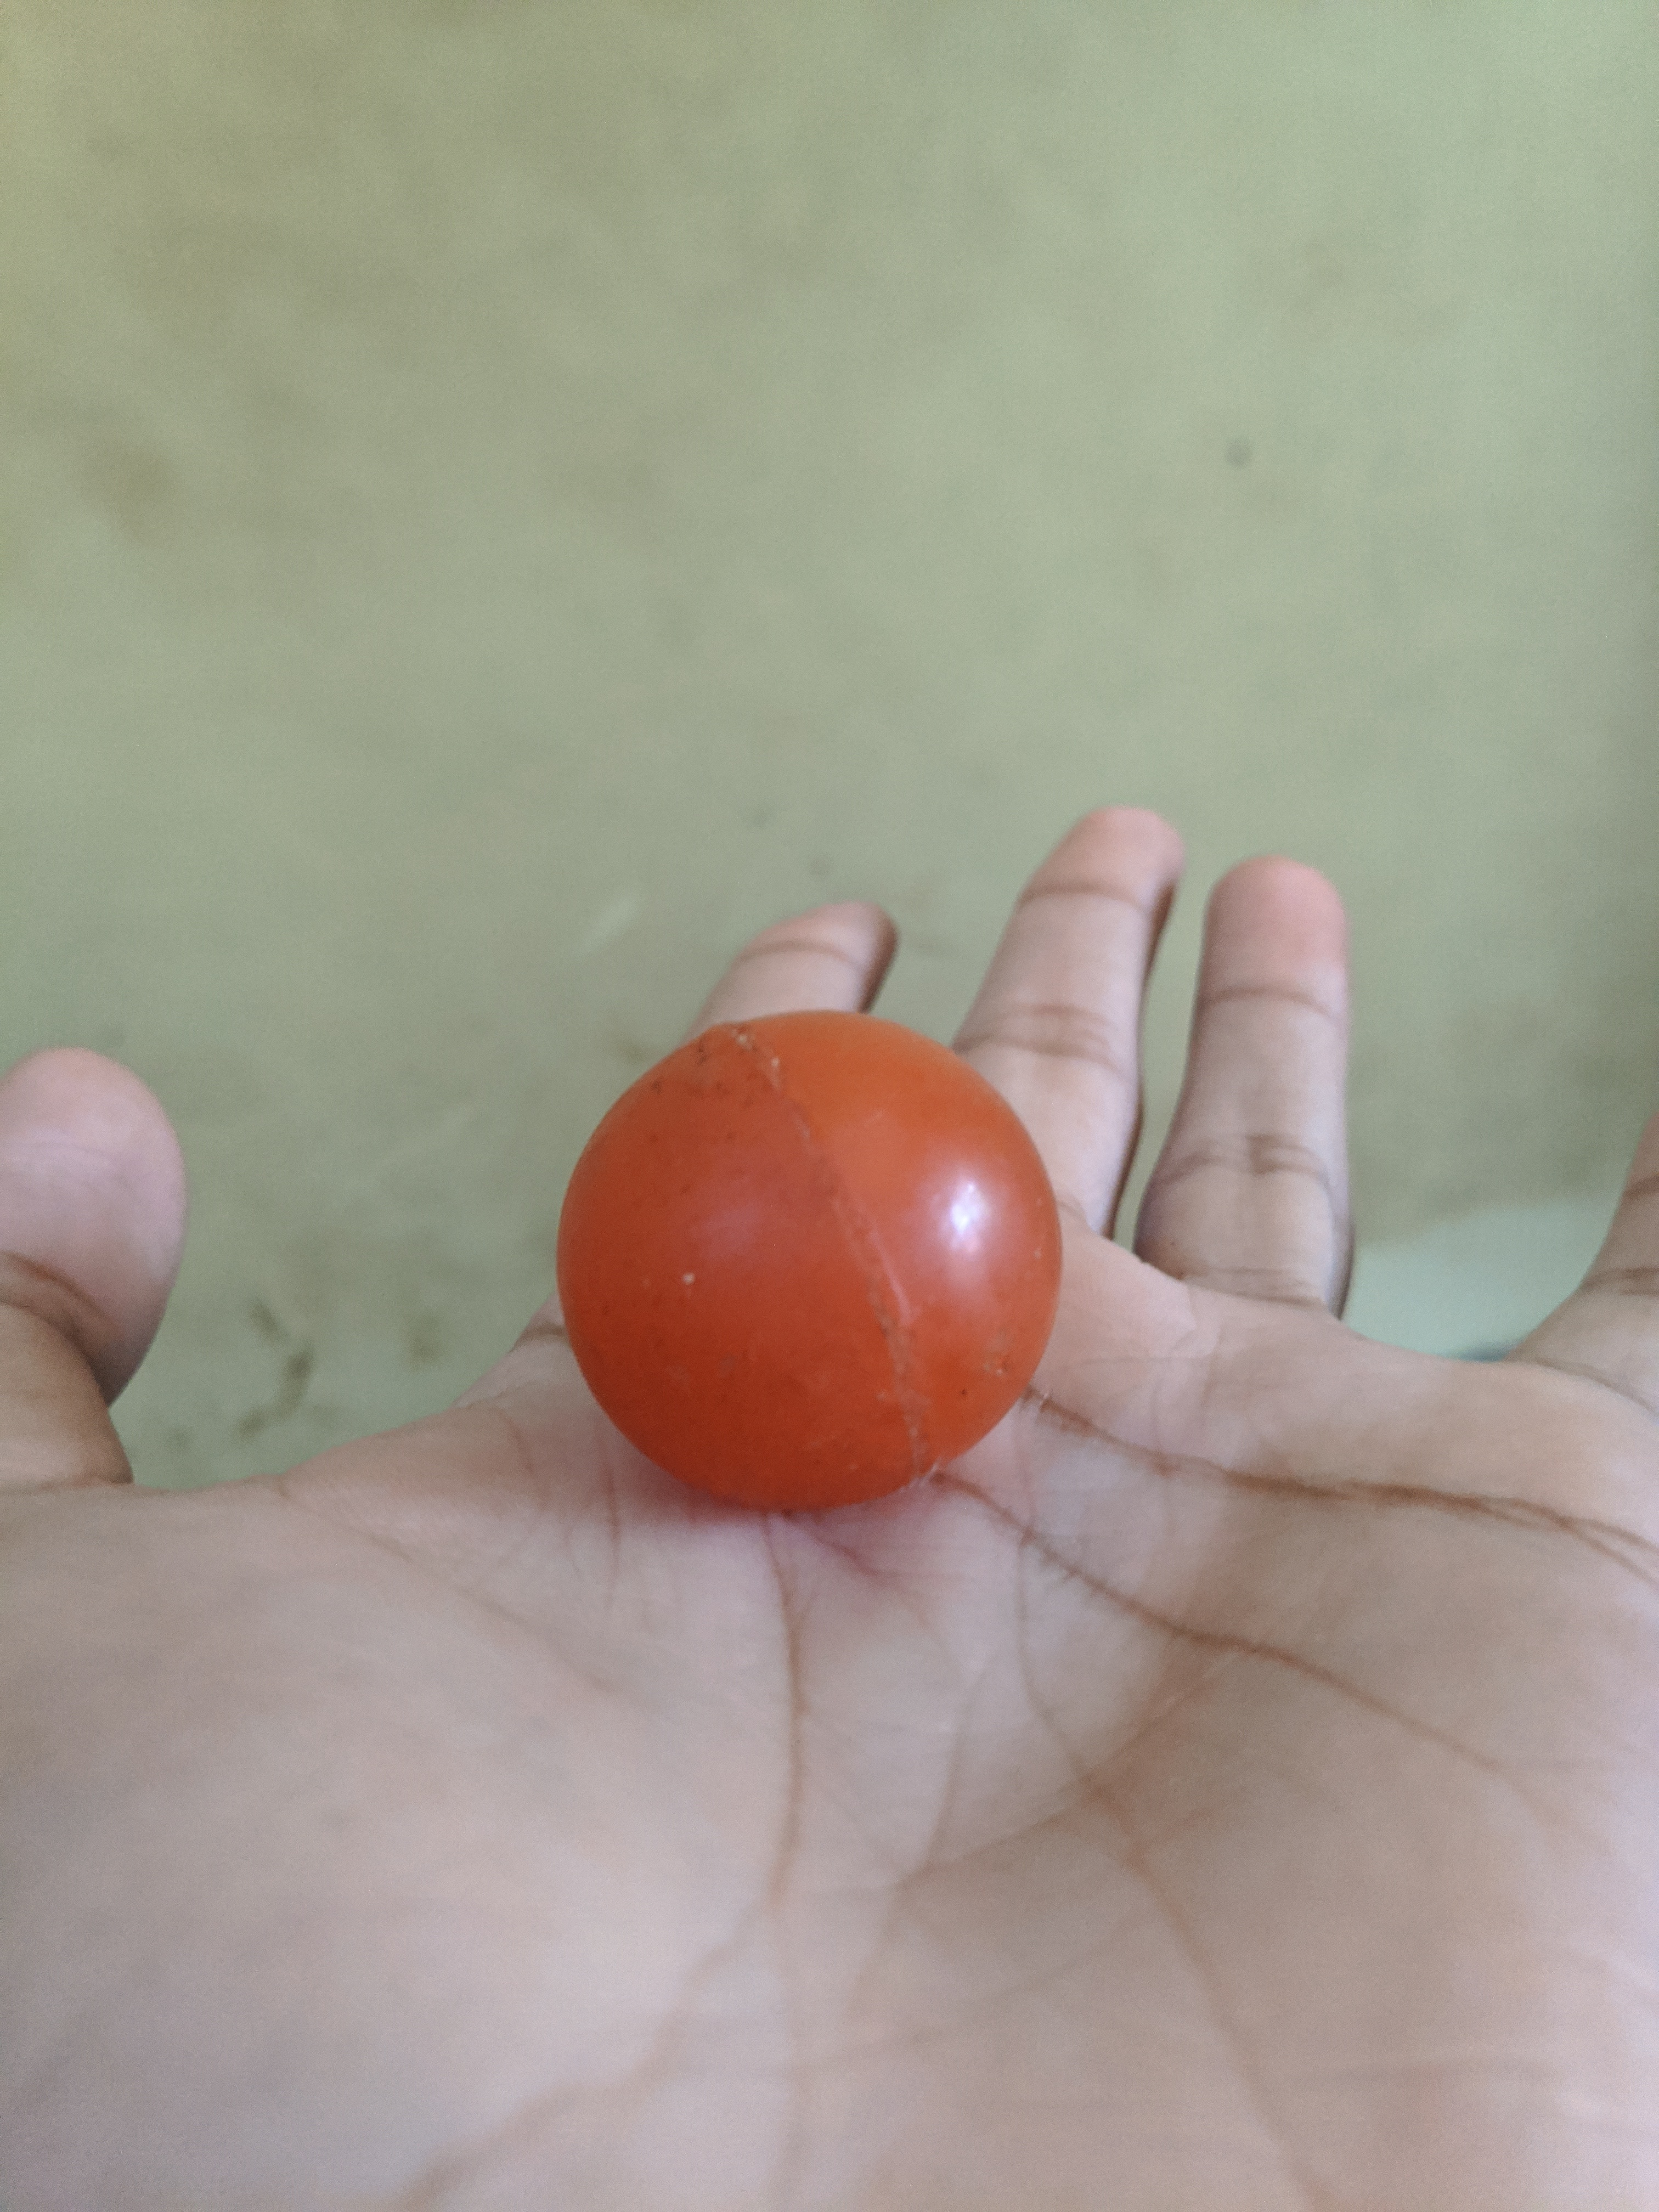red_ball: (535, 975, 1077, 1527)
